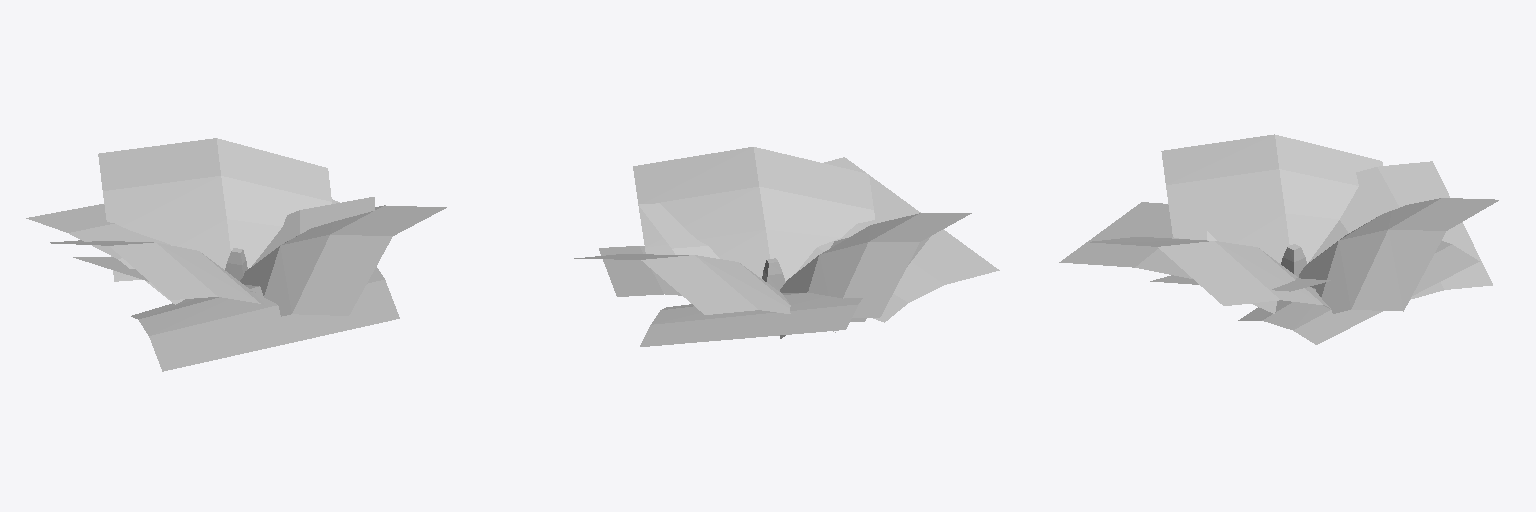
Rendered from Cartoon Flowers_10.obj.
3 views of the same model, side by side, from view 1: azimuth 30°, elevation 25°; view 2: azimuth 150°, elevation 25°; view 3: azimuth 270°, elevation 25° (orthographic).
Parts seen in each view (by area): view 1: Cartoon Flowers_10; view 2: Cartoon Flowers_10; view 3: Cartoon Flowers_10.
Part boxes in pixels (bbox=[...]): Cartoon Flowers_10: bbox=[26, 138, 446, 371]; Cartoon Flowers_10: bbox=[574, 147, 999, 346]; Cartoon Flowers_10: bbox=[1059, 134, 1498, 344].
Bounding box in the file's own units: 6.41 × 1.82 × 7.51.